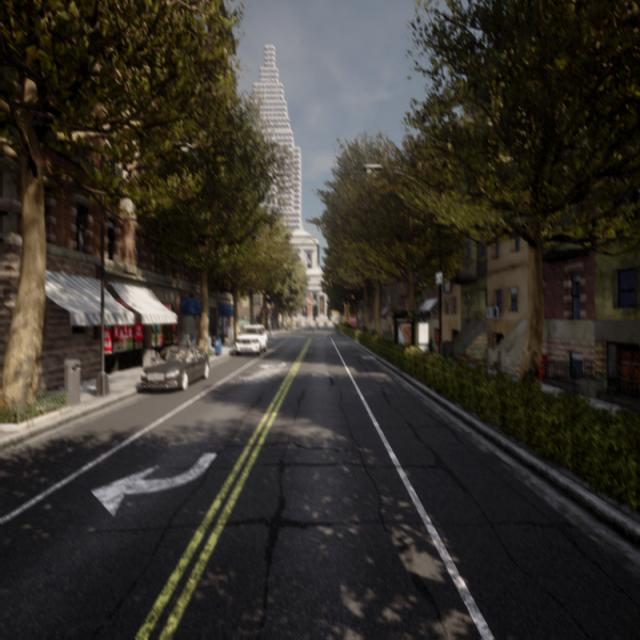stop sign: (346, 314, 362, 332)
